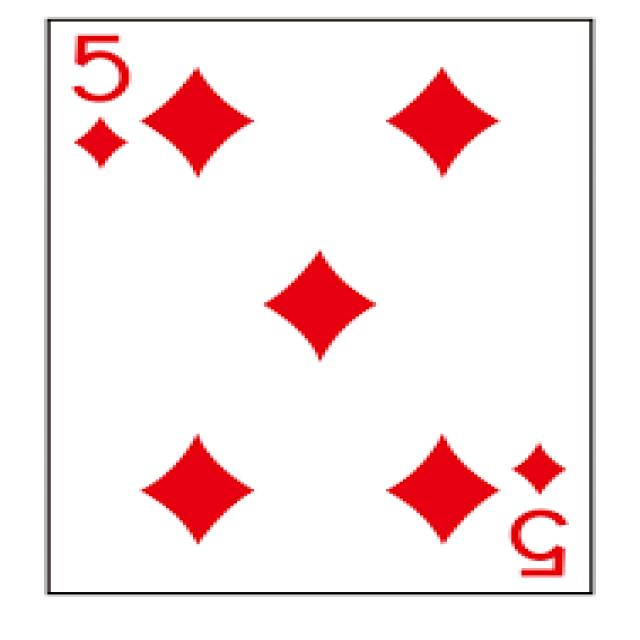R5: (0, 0, 633, 638)
